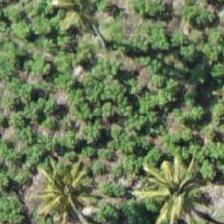coconut_tree: (9, 139, 99, 223), (139, 171, 223, 223), (37, 0, 127, 45)
